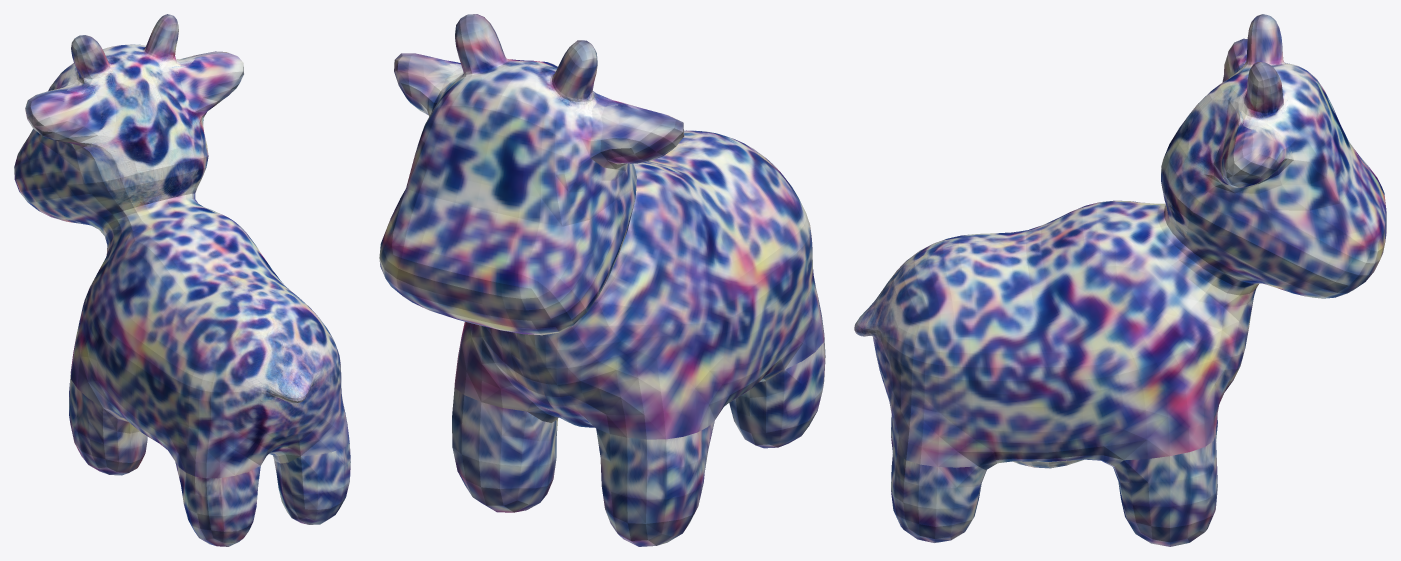
File: spot.obj
The picture shows the model from 3 angles, left to right: view 1: azimuth 30°, elevation 25°; view 2: azimuth 150°, elevation 25°; view 3: azimuth 270°, elevation 25°; orthographic projection. The views are drawn at different scales.
Size of the model in its own units: 0.9431 by 1.69 by 1.72.
Materials: 1 (1 with a texture image).
